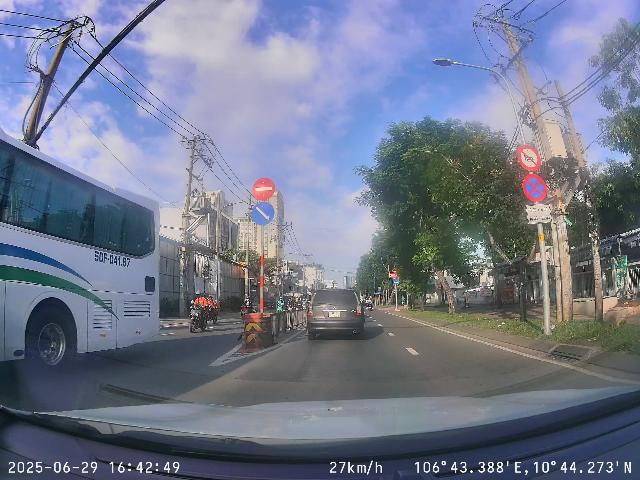102-cam-di-nguoc-chieu: (252, 178, 276, 200)
128-cam-su-dung-coi: (517, 145, 541, 172)
130-cam-dung-va-do-xe: (523, 174, 547, 202)
302a-huong-phai-di-vong-chuong-ngai-vat-1: (251, 201, 275, 225)
